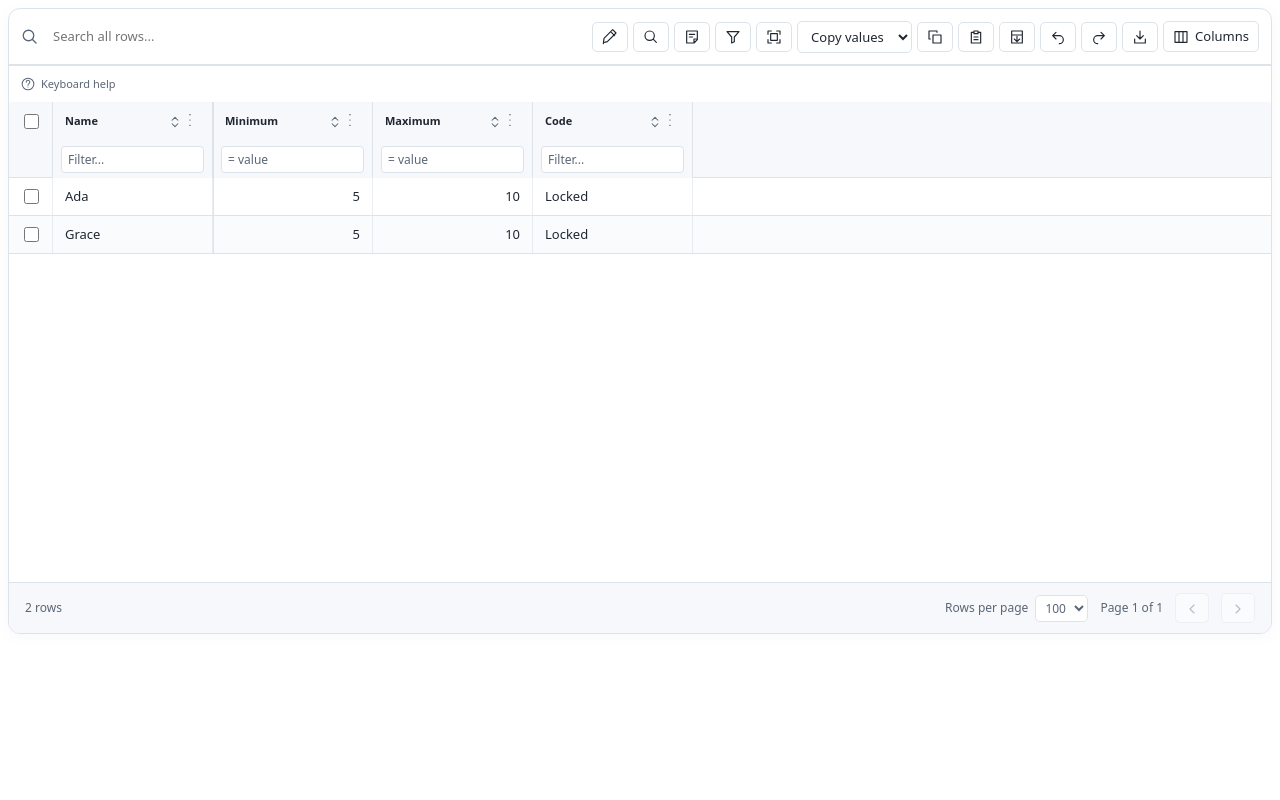
it: DataGrid row editing mode › restores grid-container focus when the edited row is deleted and the view becomes empty
Press F2 in the cell "Ada", box top-left (53, 178), bottom-right (213, 215)
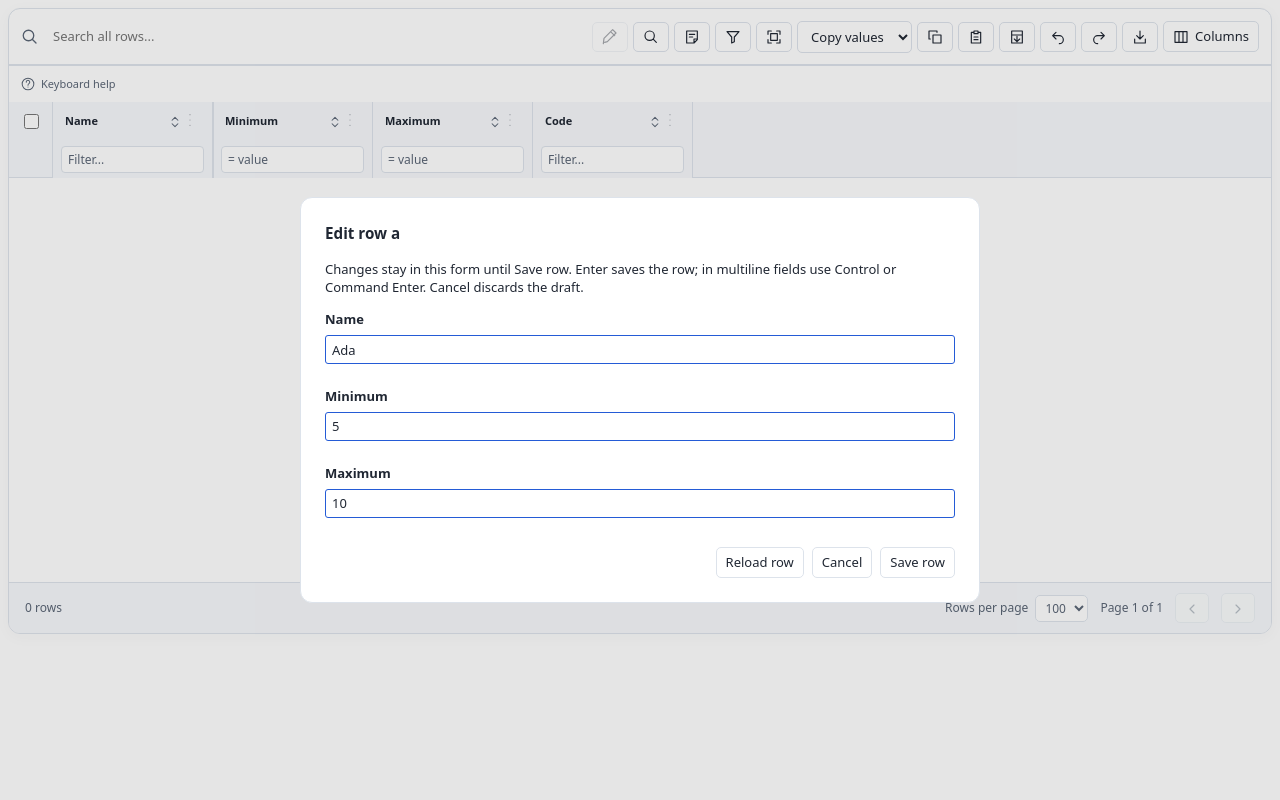
Click the button "Cancel": (842, 562) top-left (812, 547), bottom-right (872, 578)
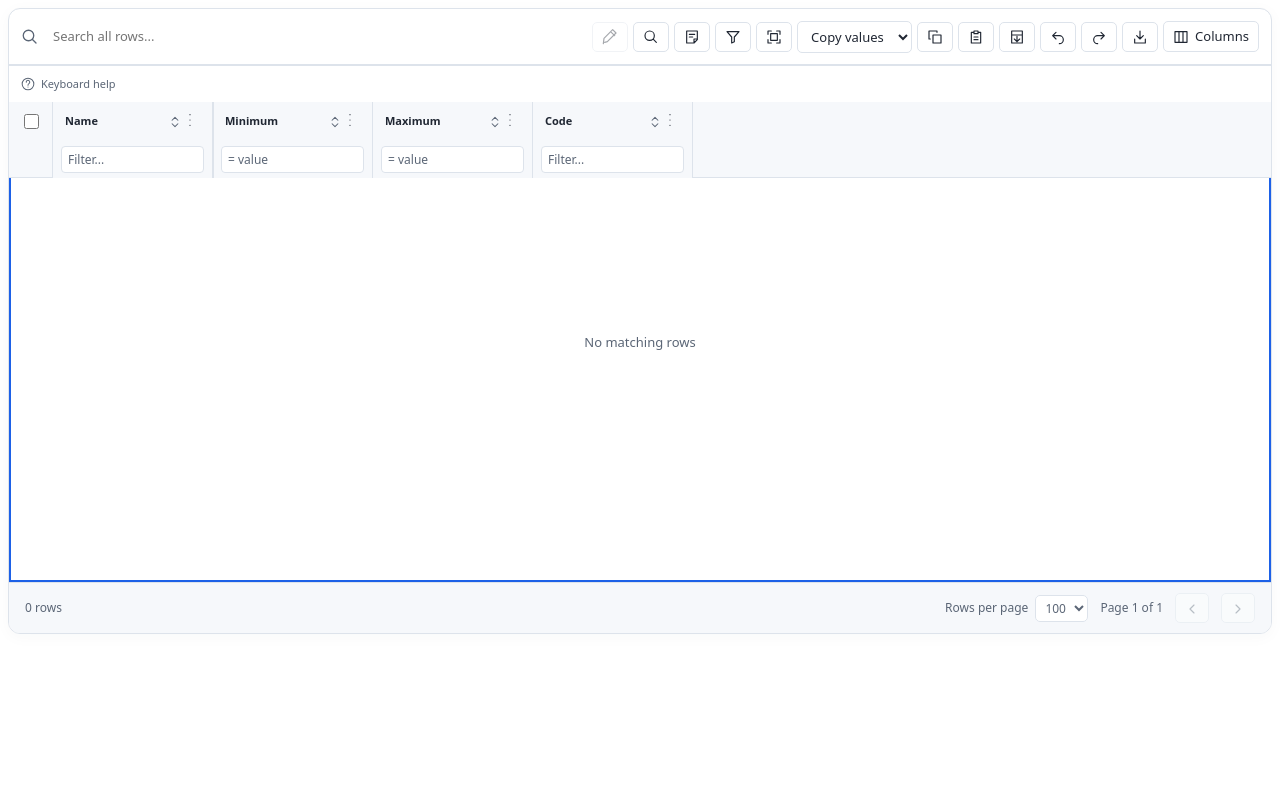
Result: the dialog is gone
